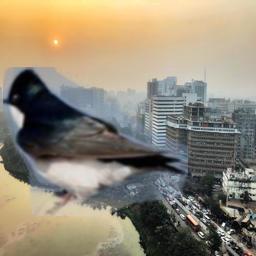Swallow: (3, 67, 188, 216)
